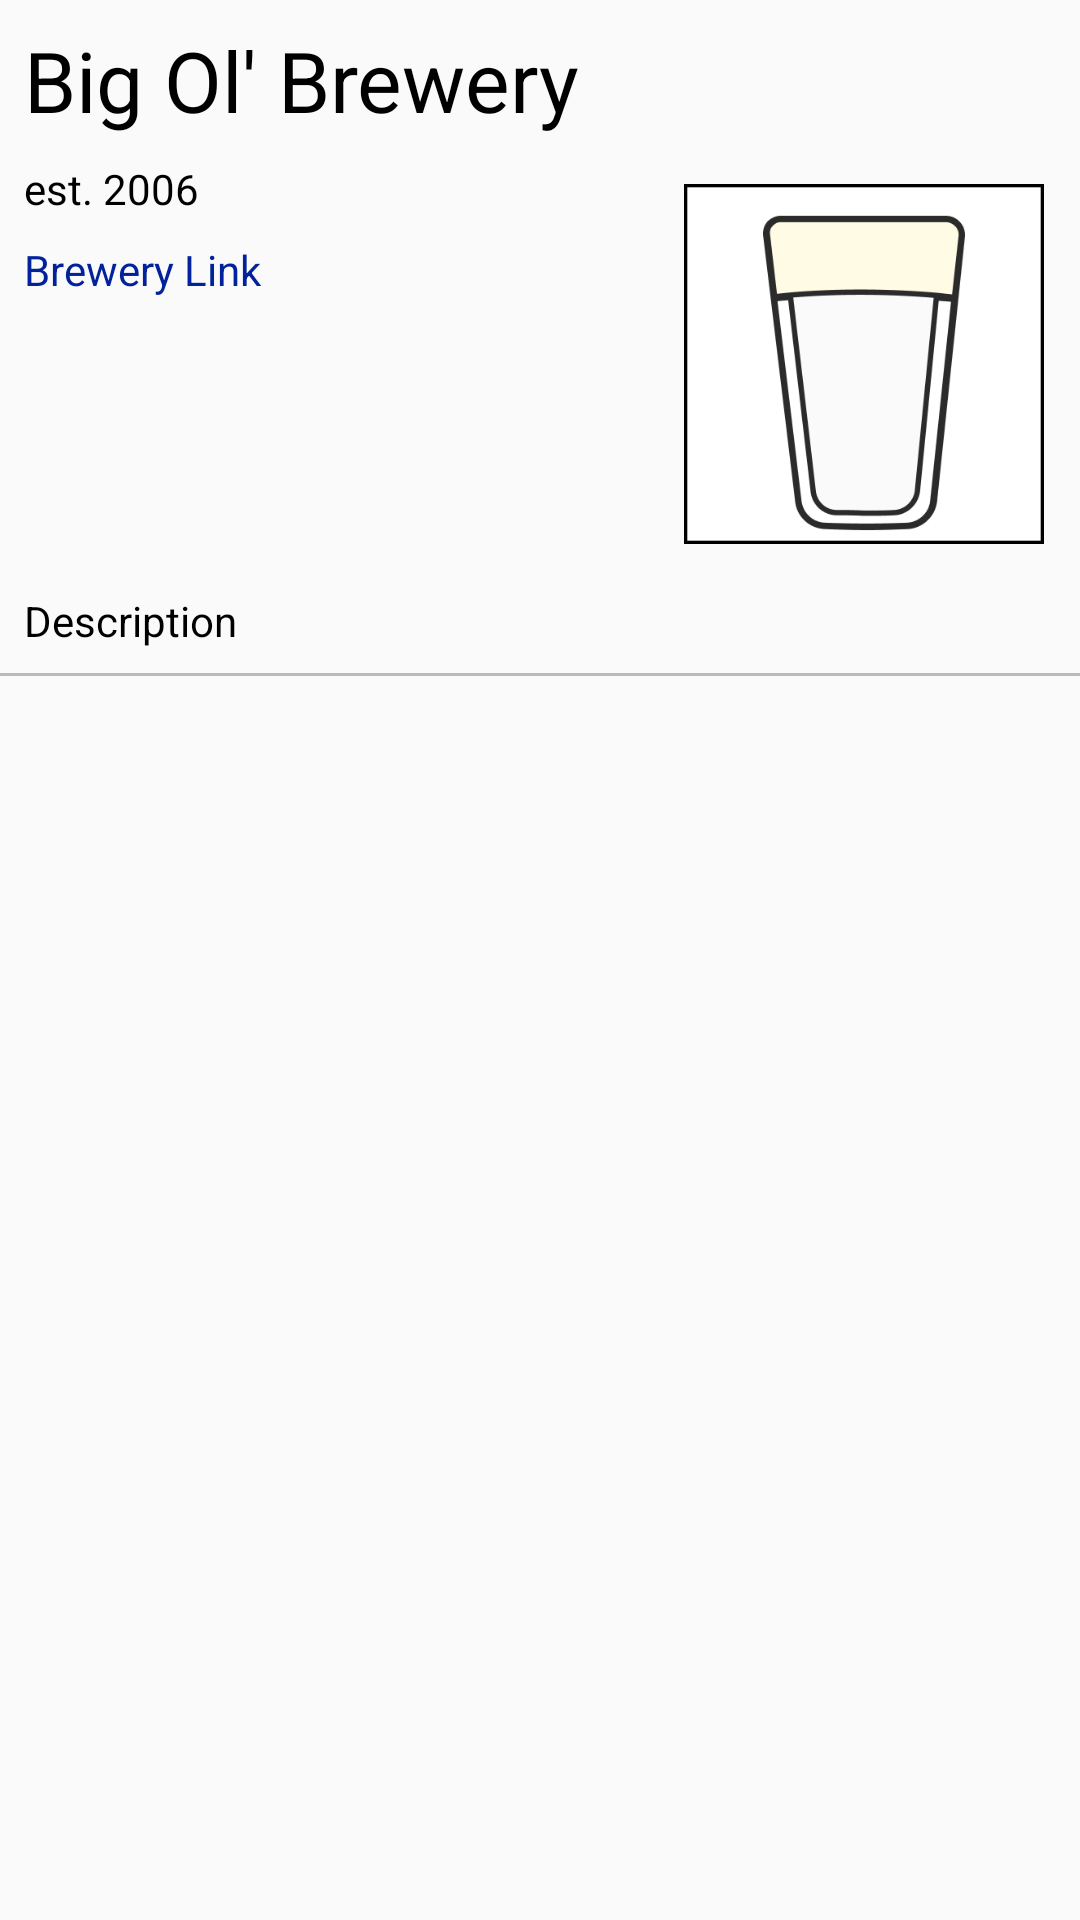

Named icons in this screenshot (1080 x 1920) and their bounding boxes, (left=x1, top=y1, right=x2, bottom=y2):
glass: (left=684, top=184, right=1044, bottom=544)
